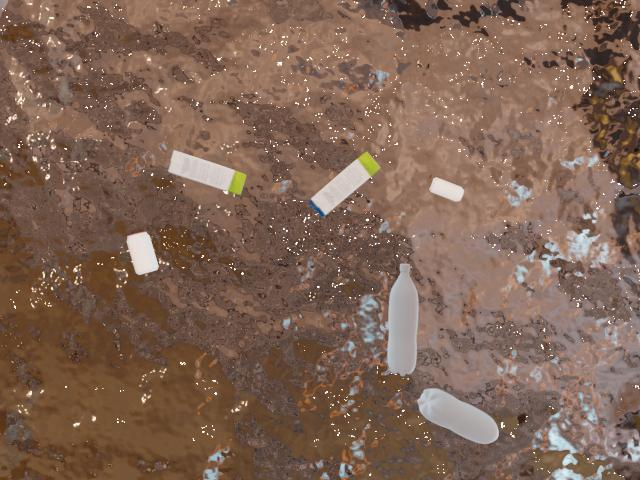Metal: (124, 220, 162, 295), (425, 168, 474, 214)
Plastic: (413, 375, 523, 466), (377, 250, 424, 385)
Trash: (302, 130, 383, 245), (166, 139, 249, 218)
